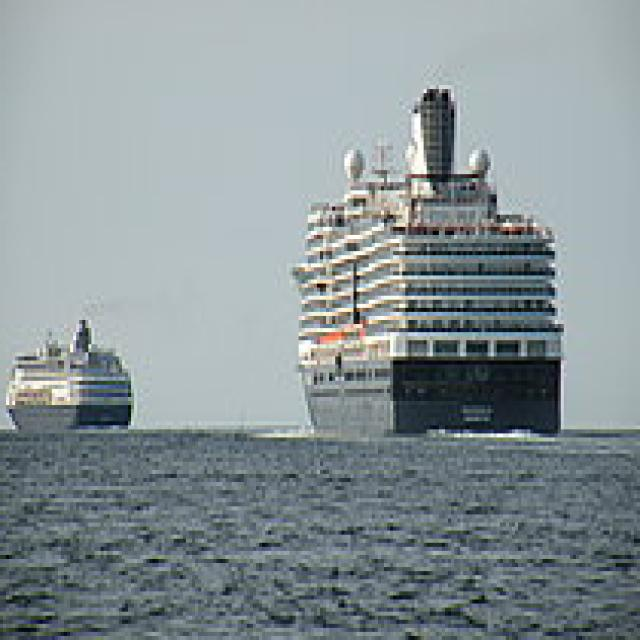Cruise: (292, 77, 570, 437), (6, 312, 140, 433)
